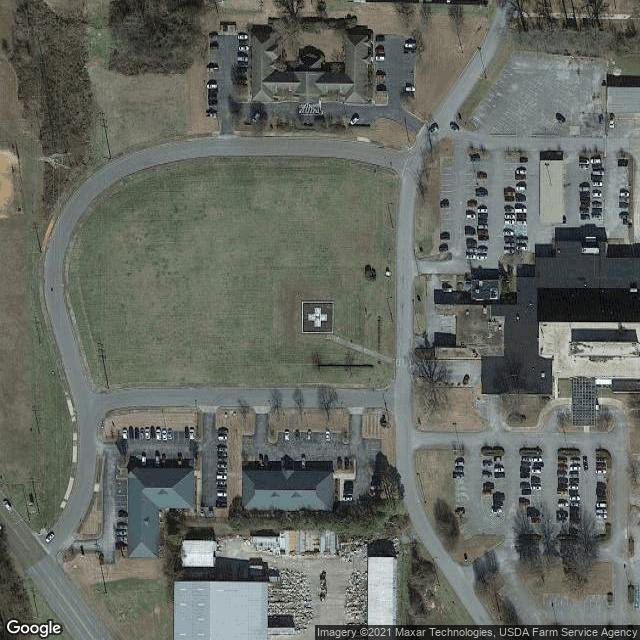Helipad: (299, 298, 336, 336)
